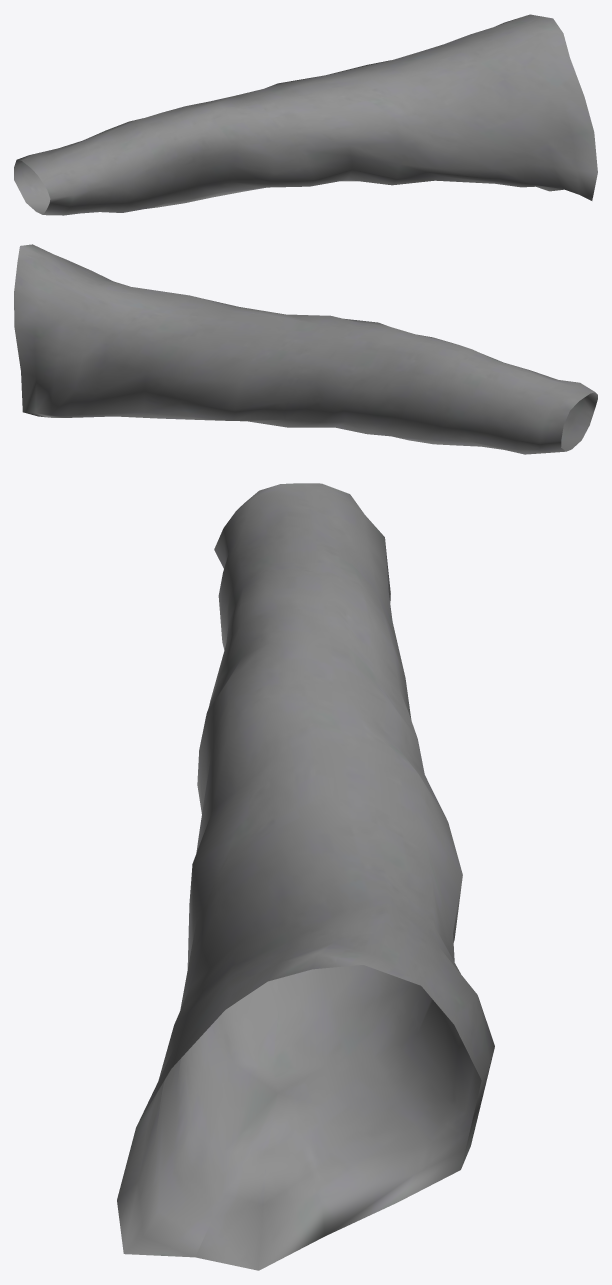
The model's file is Arm1.fbx.
3 views of the same model, one above another, from view 1: azimuth 30°, elevation 25°; view 2: azimuth 150°, elevation 25°; view 3: azimuth 270°, elevation 25° (orthographic). The views are drawn at different scales.
Visible parts, largest first — view 1: avaturn_look_0.002; view 2: avaturn_look_0.002; view 3: avaturn_look_0.002.
Boxes of the visible parts, <box> form: avaturn_look_0.002: <box>14,14,597,215</box>; avaturn_look_0.002: <box>14,244,597,454</box>; avaturn_look_0.002: <box>117,483,494,1270</box>.
Bounding box in the file's own units: 49.15 × 14.11 × 15.21.
1 material, 1 textured.
